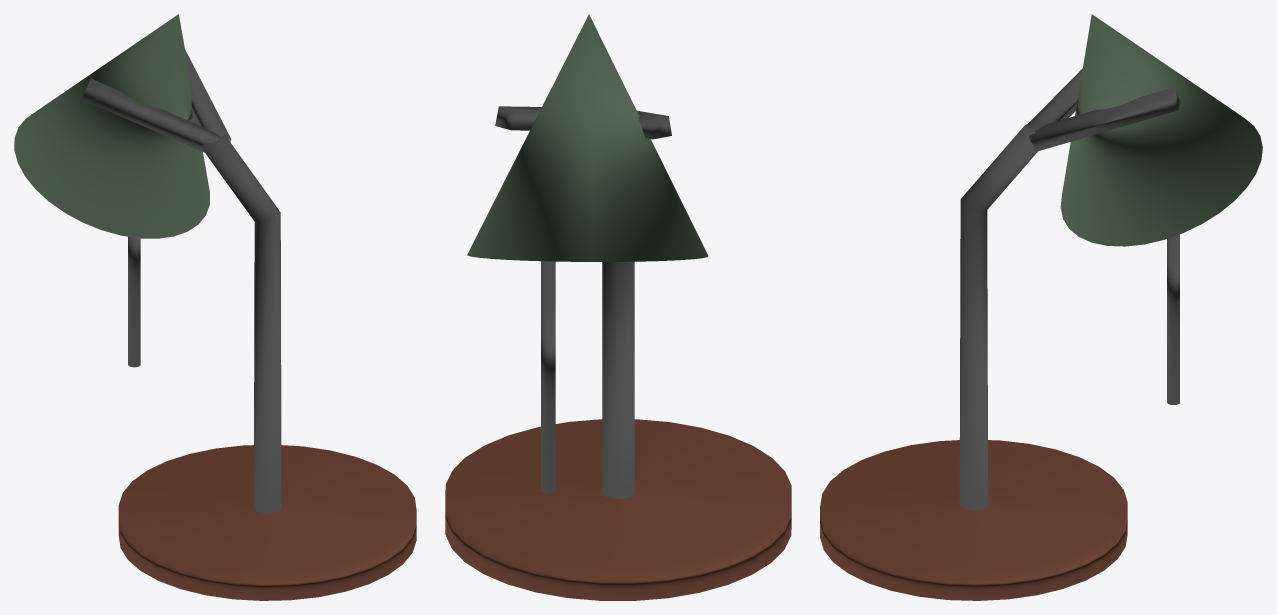
Rendered from lamp.glb.
The picture shows the model from 3 angles, left to right: view 1: azimuth 30°, elevation 25°; view 2: azimuth 150°, elevation 25°; view 3: azimuth 270°, elevation 25°; orthographic projection. The views are drawn at different scales.
Visible parts, largest first — view 1: lampdesk; view 2: lampdesk; view 3: lampdesk.
Part boxes in pixels (x1,y1,x2,y2): lampdesk: [14, 14, 416, 600]; lampdesk: [445, 14, 791, 600]; lampdesk: [820, 14, 1262, 600].
Bounding box in the file's own units: 0.2318 × 0.3852 × 0.3055.
1 material, 1 textured.
